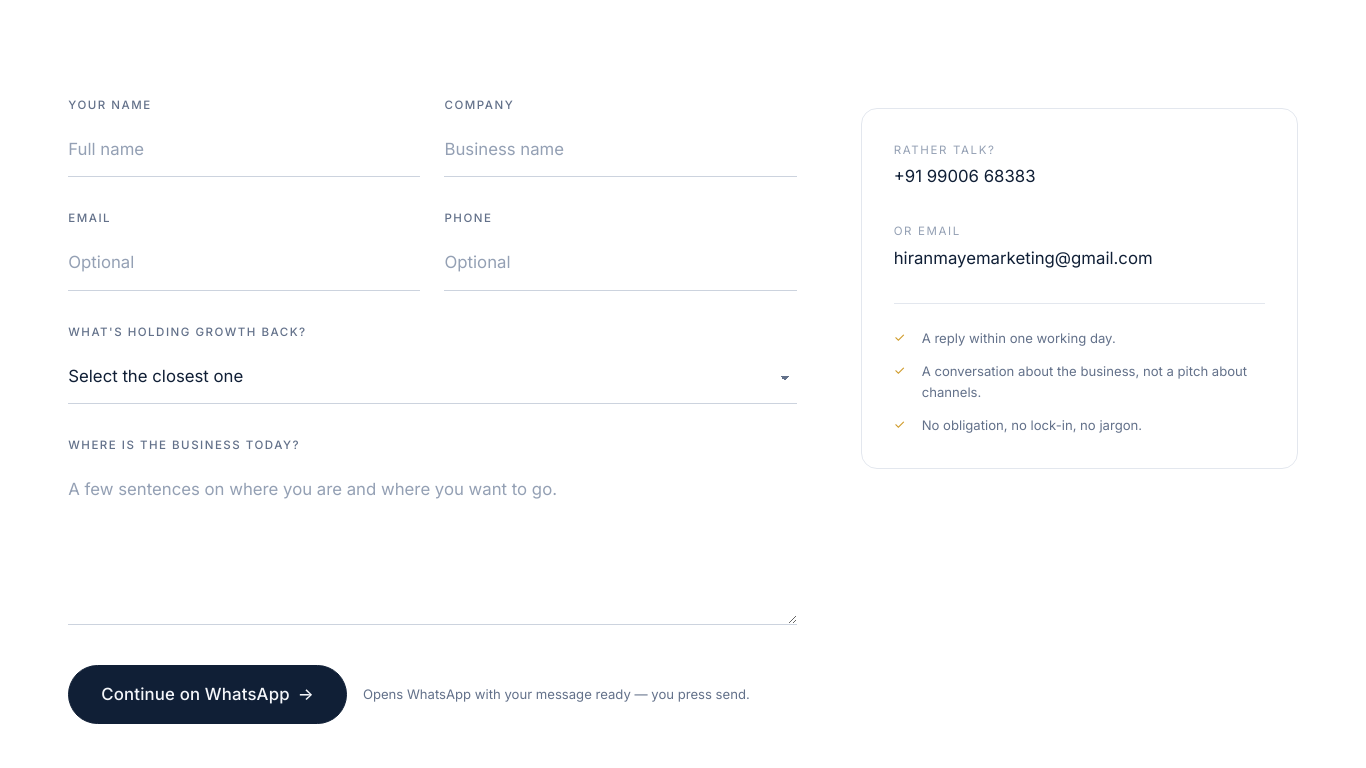
Test: ContactForm › confirms honestly — nothing is sent until they press send in WhatsApp
Type "Valan" into the field labelled "Your name" at (244, 150), box [68,122,420,177]
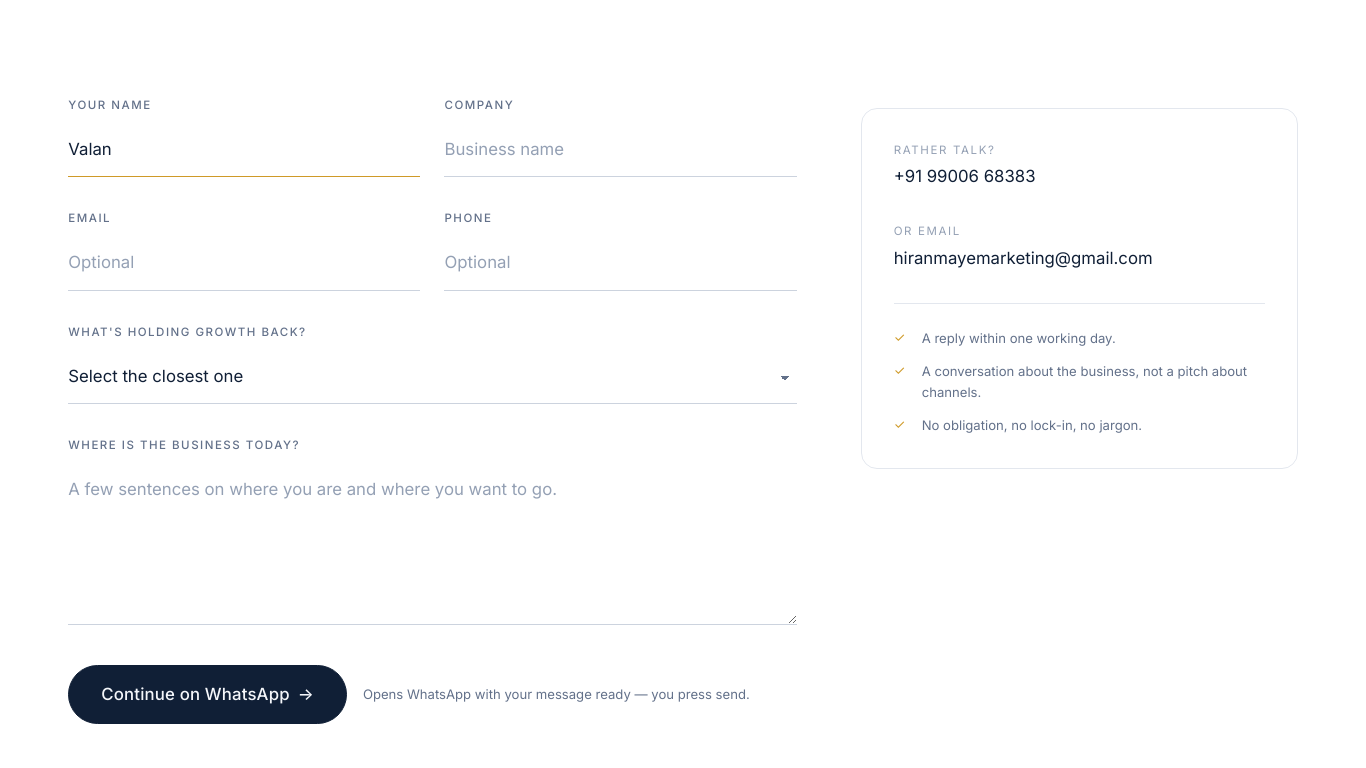
Type "Acme Foods" into the field labelled "Company" at (621, 150), box [444,122,797,177]
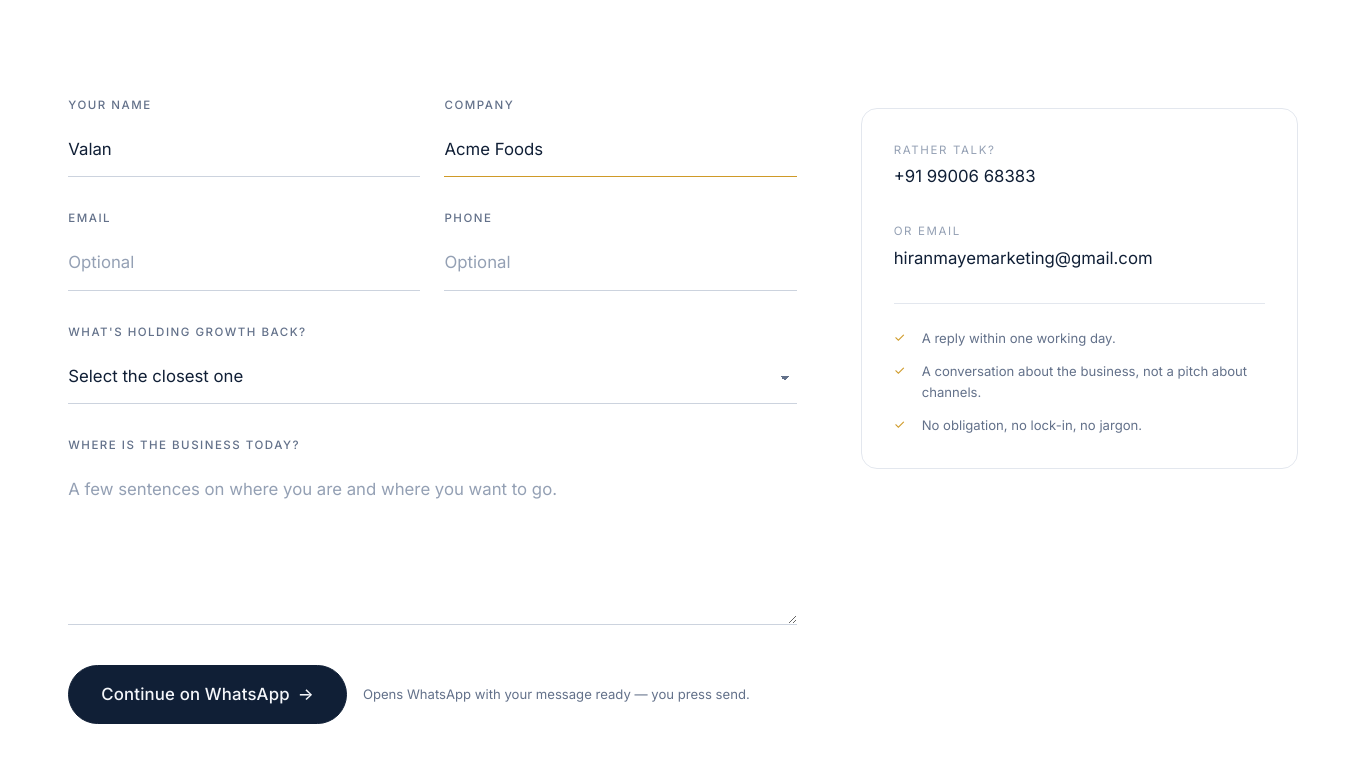
Type "Enquiries have flattened." into the text box labelled "Where is the business today?" at (432, 544), box [68,463,797,625]
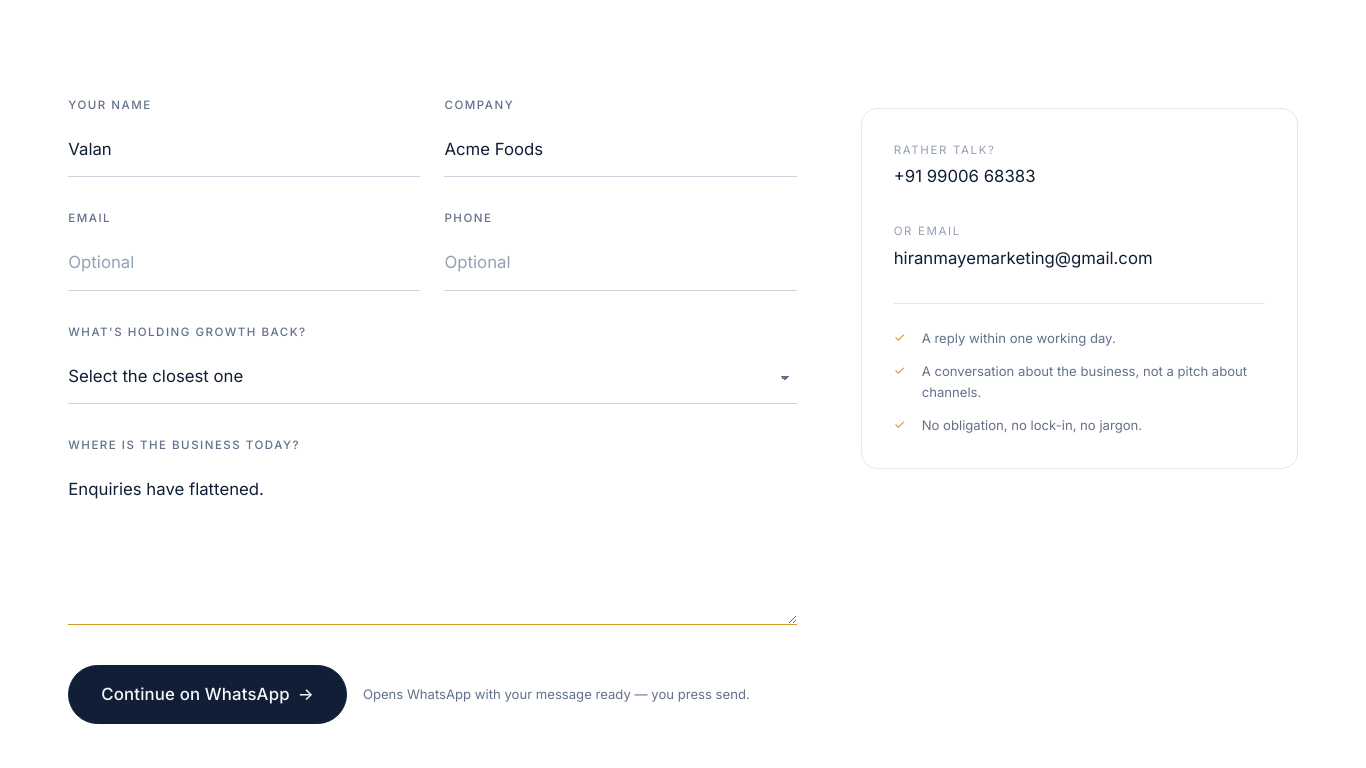
Click the button "Continue on WhatsApp →" at (208, 694), box [68,665,347,724]
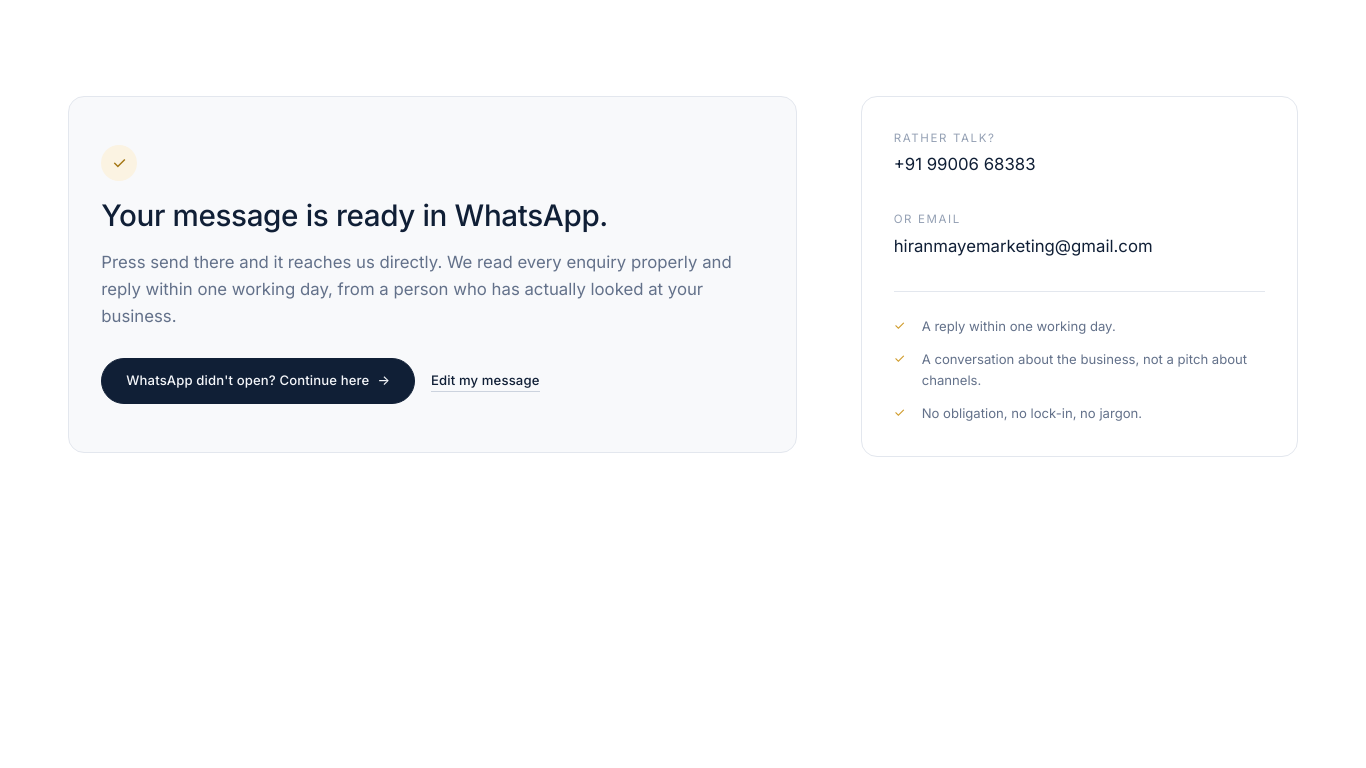
Result: the heading "Your message is ready in WhatsApp." is shown at [101,197,608,233]
